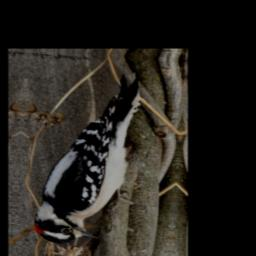Woodpecker: (32, 68, 145, 250)
